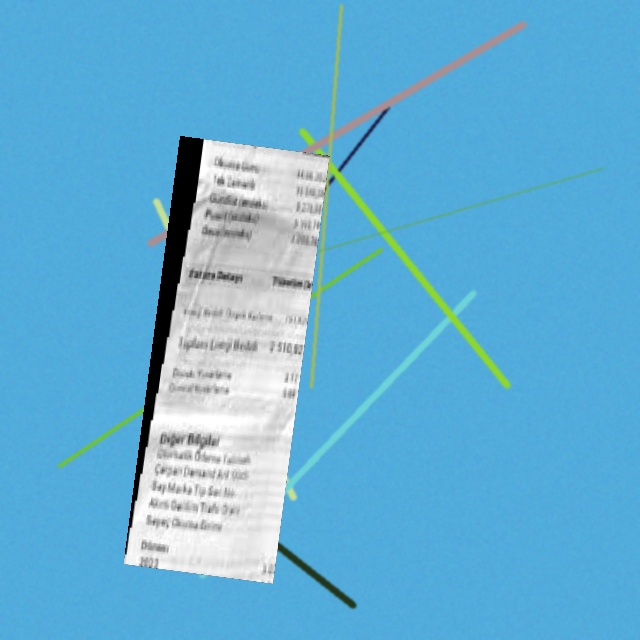electricity-bill: (123, 136, 329, 584)
